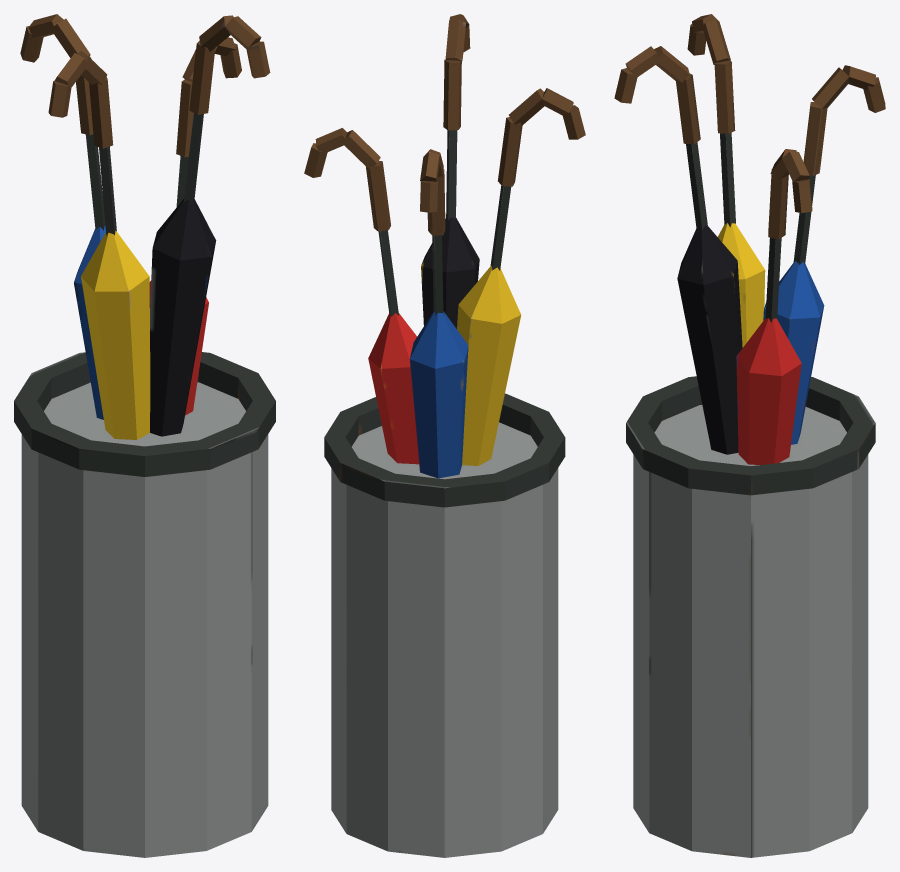
File: stojan_destniku_b5ec556a.glb
3 renders of one model, left to right at view 1: azimuth 30°, elevation 25°; view 2: azimuth 150°, elevation 25°; view 3: azimuth 270°, elevation 25°, orthographic. The views are drawn at different scales.
Visible parts, largest first — view 1: dum; view 2: dum; view 3: dum.
Boxes of the visible parts, x1,y1,x2,y2 form: dum: [14, 14, 275, 857]; dum: [304, 14, 585, 857]; dum: [614, 14, 885, 857].
Bounding box in the file's own units: 0.3698 × 1.17 × 0.3687.
1 material, 1 textured.
